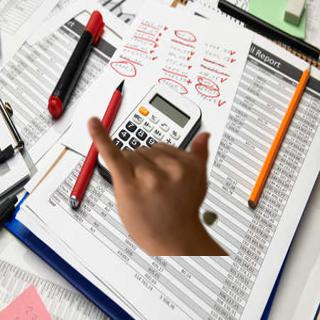HAVE: (74, 109, 227, 251)
